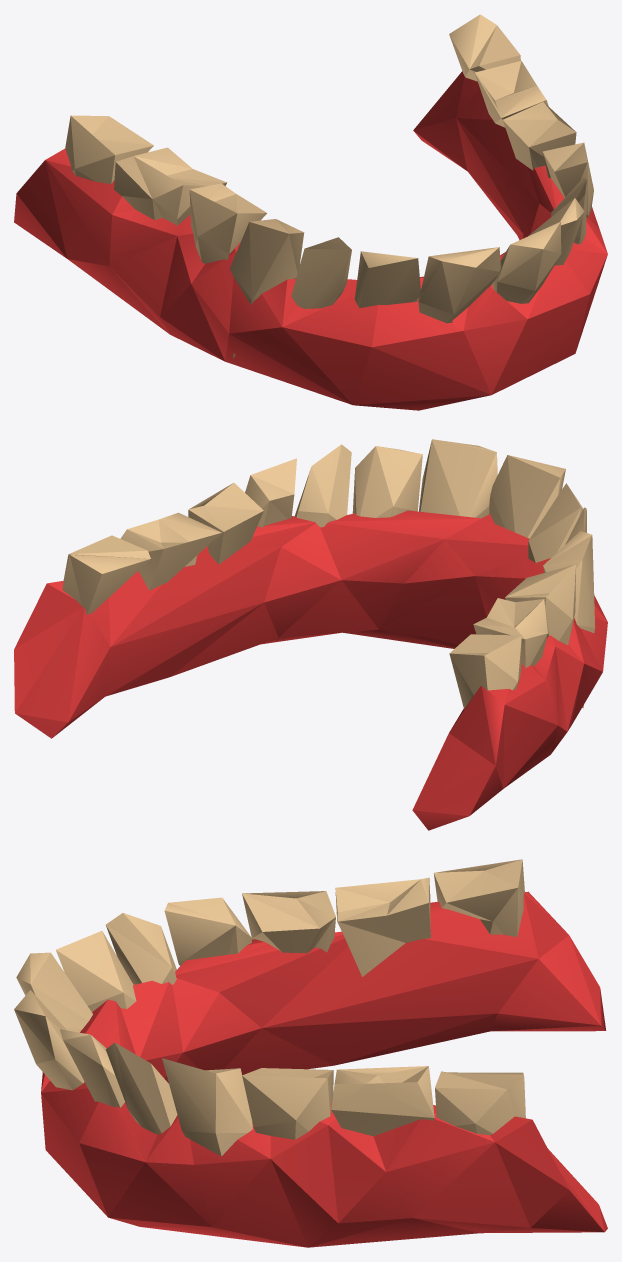
The model's file is LowerTeeth.fbx.
3 views of the same model, one above another, from view 1: azimuth 30°, elevation 25°; view 2: azimuth 150°, elevation 25°; view 3: azimuth 270°, elevation 25° (orthographic). The views are drawn at different scales.
Parts seen in each view (by area): view 1: LowerTeeth; view 2: LowerTeeth; view 3: LowerTeeth.
Boxes of the visible parts, <box> form: LowerTeeth: <box>14,14,607,410</box>; LowerTeeth: <box>14,439,607,830</box>; LowerTeeth: <box>14,859,607,1247</box>.
Size of the model in its own units: 93.71 by 35.05 by 92.7.
